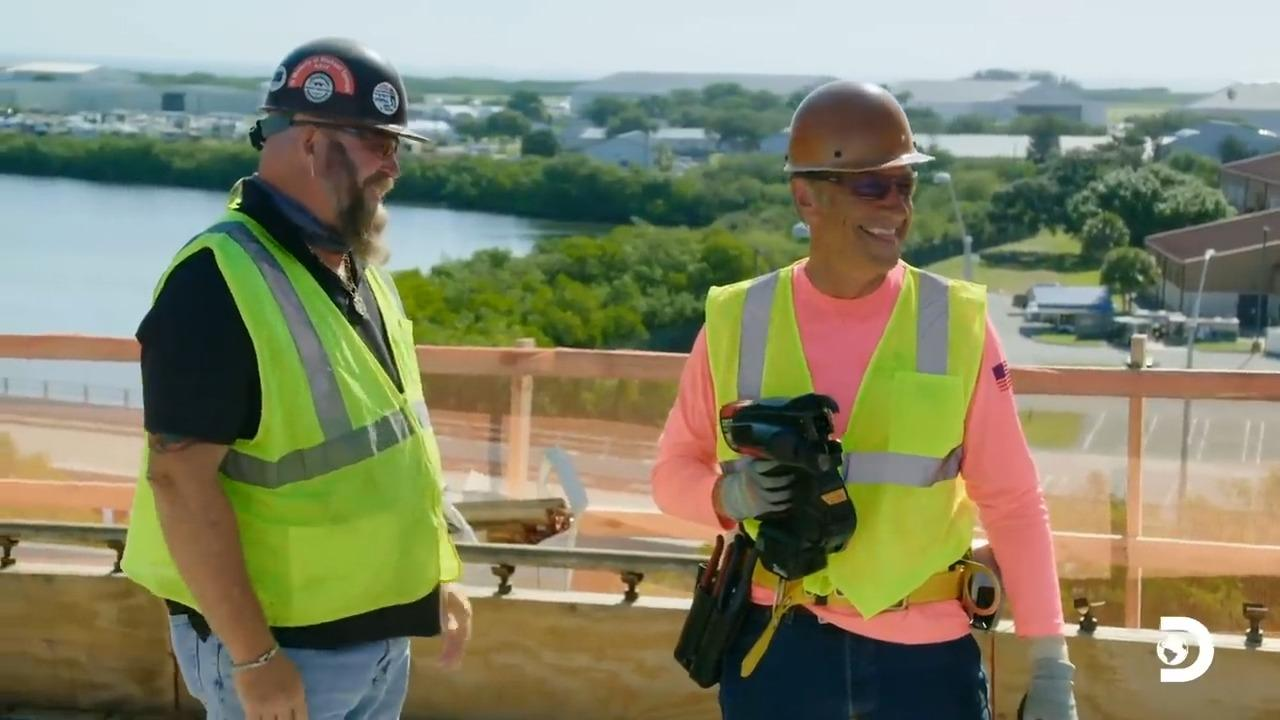Gloves: (696, 454, 796, 524), (1014, 656, 1088, 720)
Helmet: (259, 36, 433, 146), (782, 79, 935, 173)
Person: (650, 78, 1079, 719), (120, 35, 473, 719)
Safety Vest: (166, 244, 448, 616), (720, 282, 986, 608)
bare-arms: (234, 646, 328, 720)
